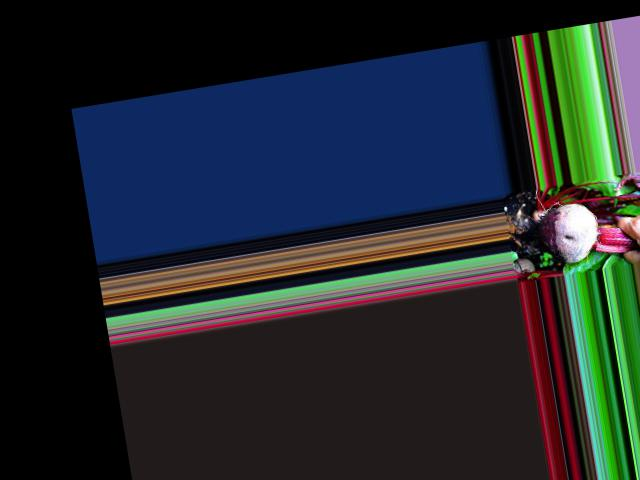beet: (504, 193, 640, 272)
